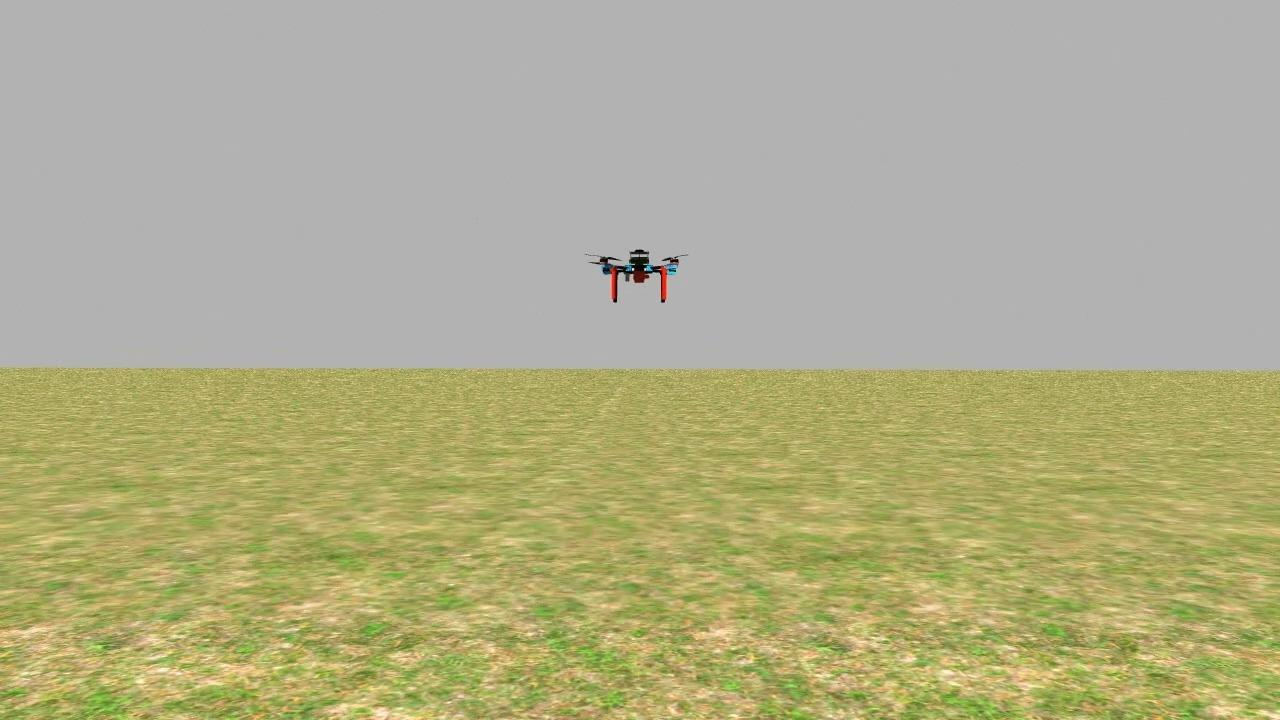UAV: (571, 241, 703, 316)
